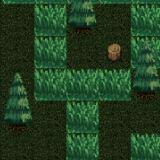Obstacle: (2, 101, 34, 133), (98, 36, 130, 68), (67, 4, 98, 37), (131, 68, 160, 101)
Slow: (34, 4, 67, 101), (67, 69, 99, 160), (131, 3, 160, 68), (99, 69, 131, 101), (130, 133, 160, 160)
